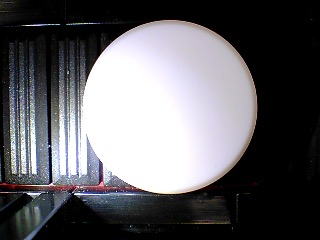BLANK: (83, 19, 258, 195)
